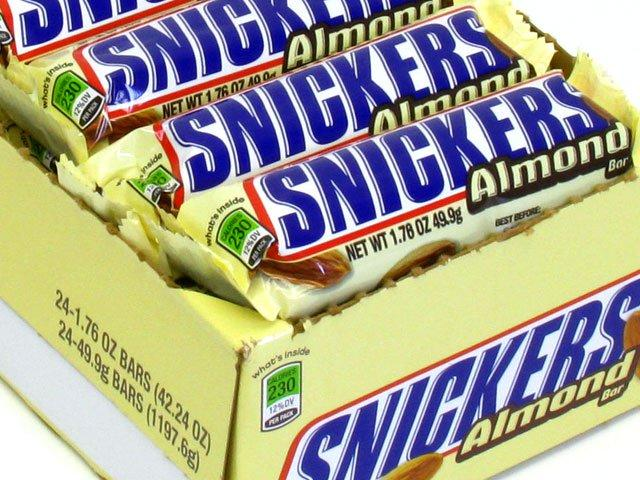snickers: (299, 278, 639, 478), (302, 278, 639, 474), (167, 8, 514, 193), (262, 71, 610, 252), (269, 71, 610, 252), (186, 8, 514, 193), (90, 0, 410, 105), (102, 0, 410, 105), (18, 0, 169, 49)
